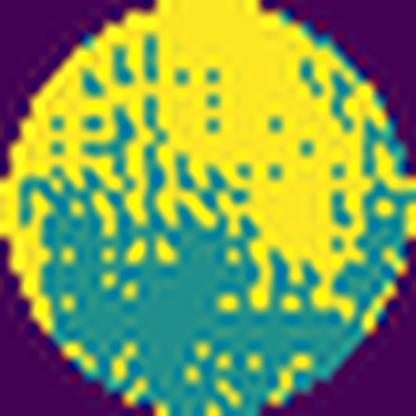Edge-Loc: (0, 0, 378, 310)
